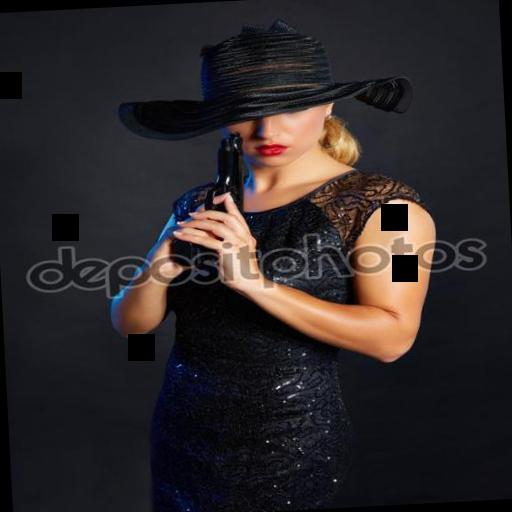Handgun: (156, 130, 252, 270)
